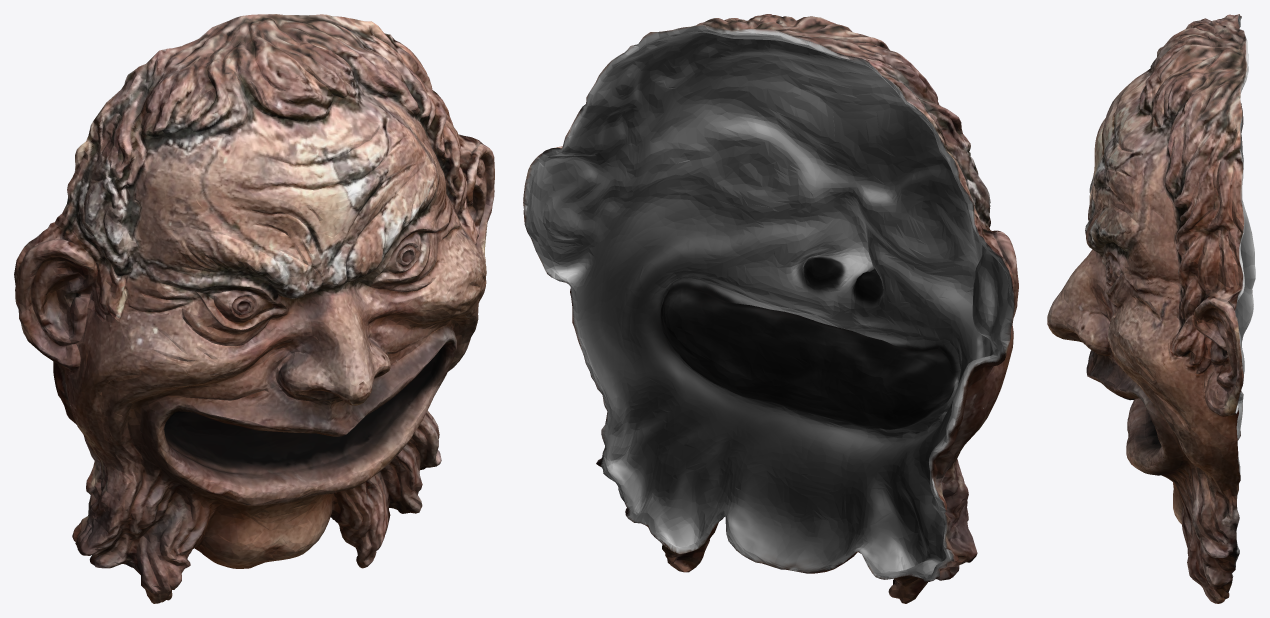
The model's file is Maschera_grottesca_01.glb.
3 views of the same model, side by side, from view 1: azimuth 30°, elevation 25°; view 2: azimuth 150°, elevation 25°; view 3: azimuth 270°, elevation 25° (orthographic). The views are drawn at different scales.
Parts seen in each view (by area): view 1: obj0; view 2: obj0; view 3: obj0.
Boxes of the visible parts, left/top/right/bottom form: obj0: left=14, top=14, right=494, bottom=603; obj0: left=523, top=14, right=1018, bottom=603; obj0: left=1047, top=14, right=1255, bottom=603.
Size of the model in its own units: 0.3934 by 0.4425 by 0.1627.
Materials: 1 (1 with a texture image).
